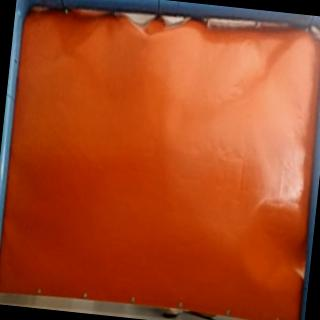Hit-hRxx: (132, 30, 156, 50)
